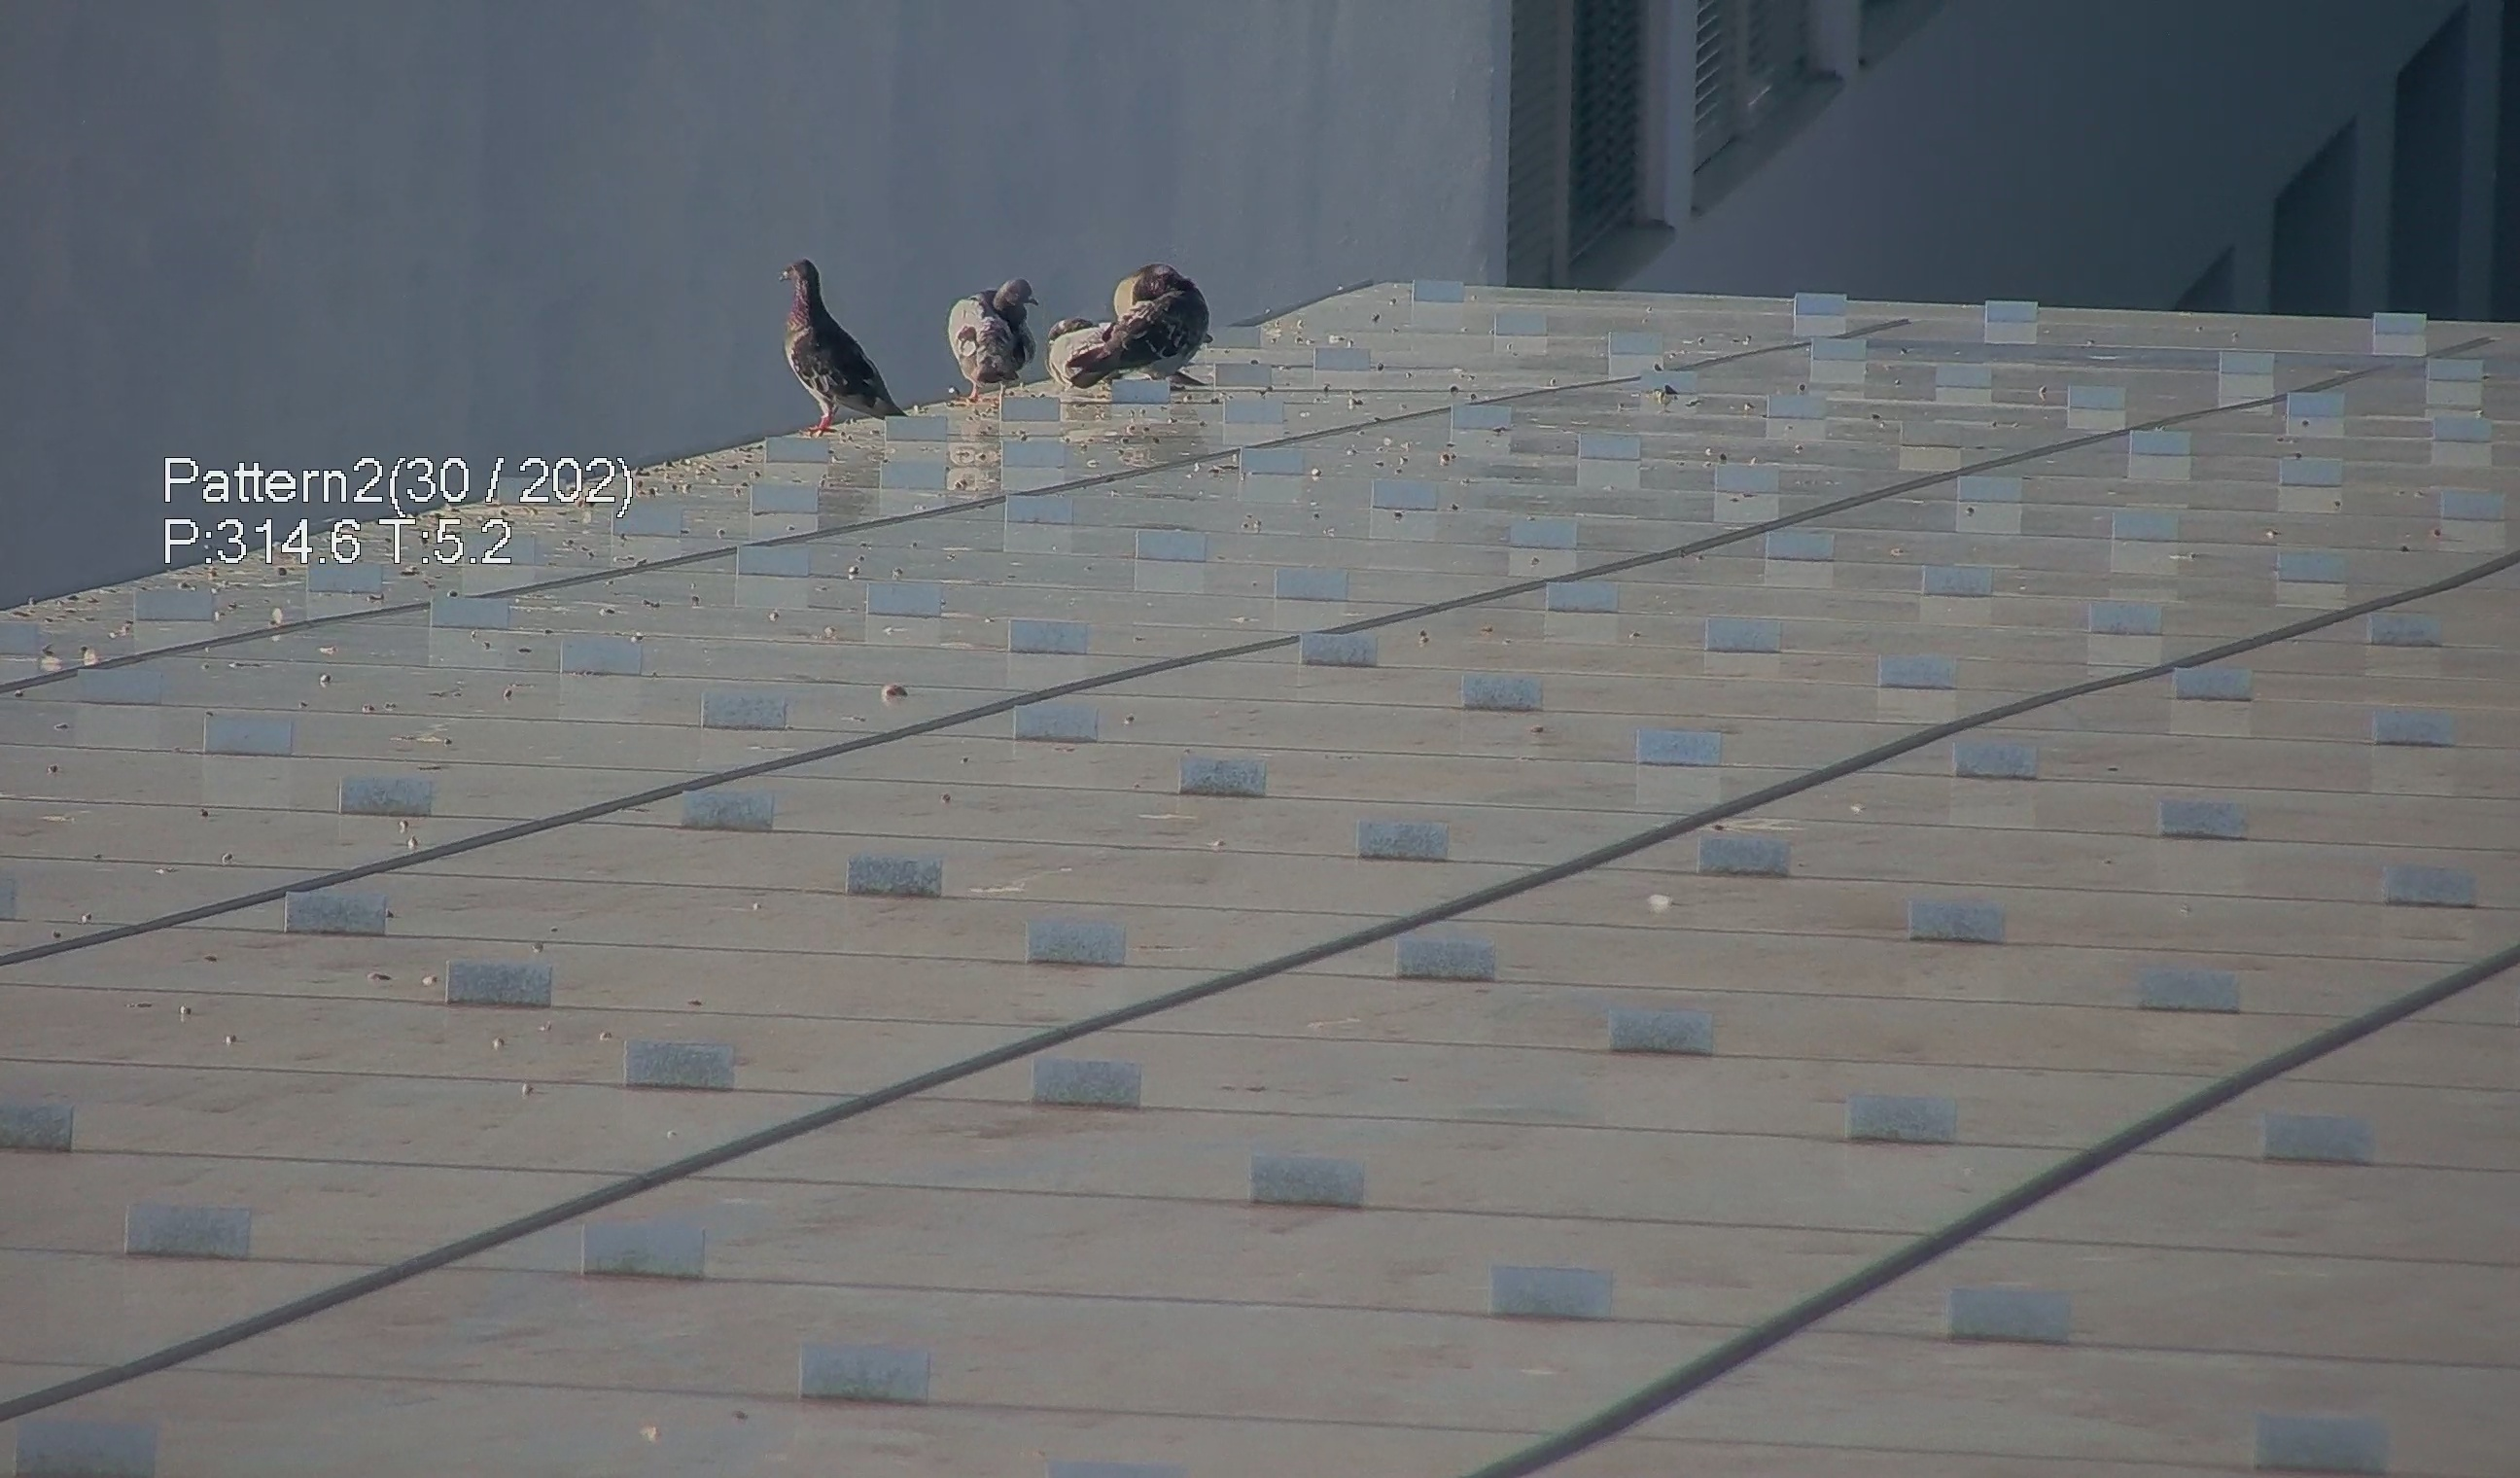Pigeon: (749, 252, 892, 431), (1055, 253, 1219, 399), (930, 266, 1052, 401), (1045, 303, 1113, 413)
